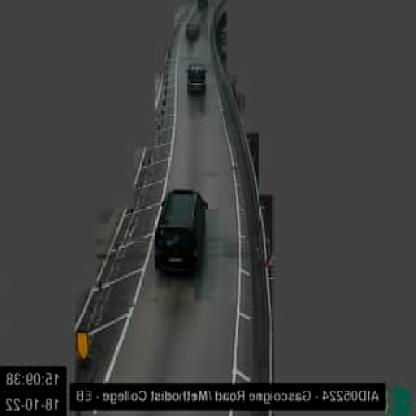Car: (153, 189, 209, 280), (186, 61, 207, 98), (186, 18, 201, 40)
